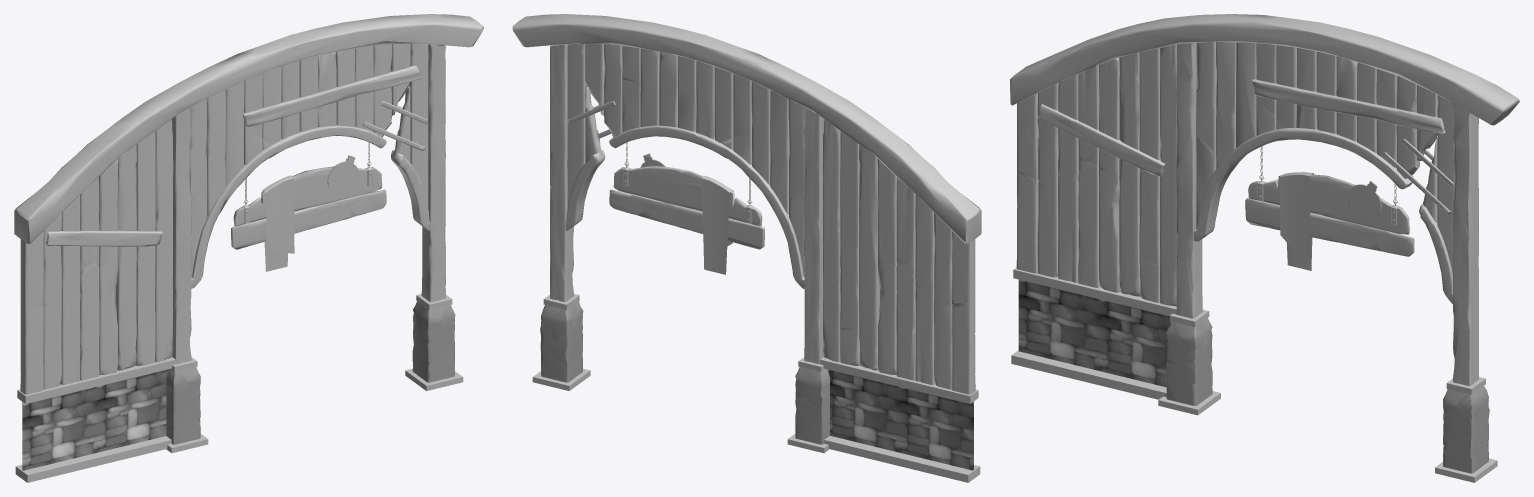
File: SM_ArchWall_00.fbx
3 renders of one model, left to right at view 1: azimuth 30°, elevation 25°; view 2: azimuth 150°, elevation 25°; view 3: azimuth 330°, elevation 25°, orthographic. The views are drawn at different scales.
Parts seen in each view (by area): view 1: WoodA_low6; view 2: WoodA_low6; view 3: WoodA_low6.
Part boxes in pixels (box(x1,y1,x2,y2)): WoodA_low6: box(14, 14, 483, 482); WoodA_low6: box(512, 14, 981, 482); WoodA_low6: box(1010, 14, 1519, 482).
Size of the model in its own units: 663 by 520 by 53.19.
